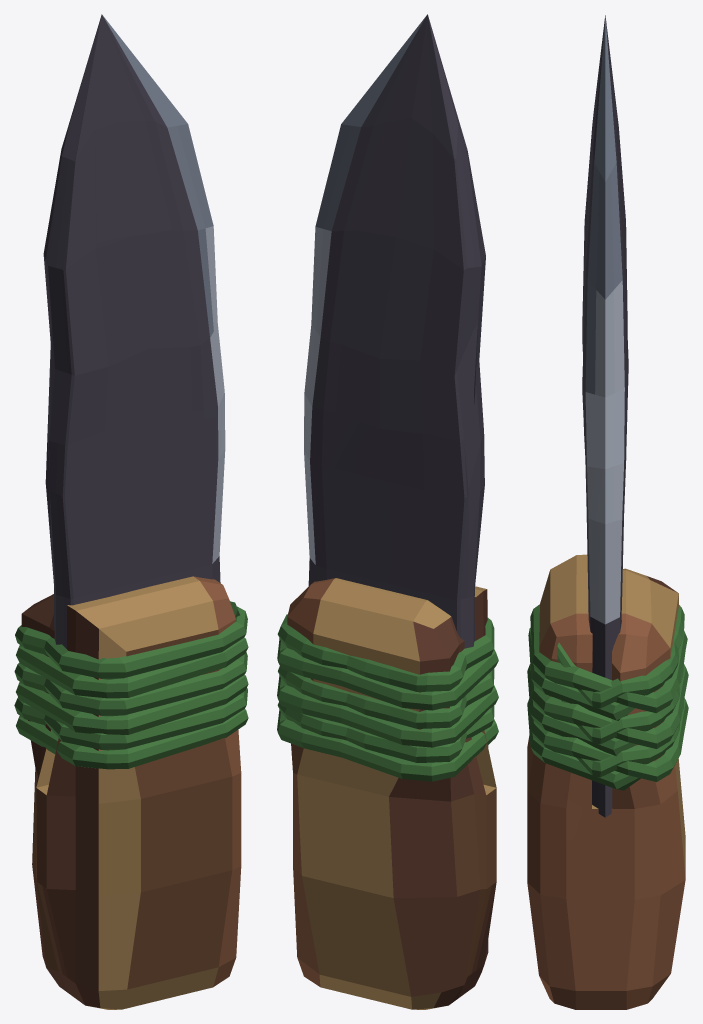
The model's file is stone_knife.glb.
3 renders of one model, left to right at view 1: azimuth 30°, elevation 25°; view 2: azimuth 150°, elevation 25°; view 3: azimuth 270°, elevation 25°, orthographic. The views are drawn at different scales.
Visible parts, largest first — view 1: StoneBlade; view 2: StoneBlade; view 3: StoneBlade.
Part boxes in pixels (bbox=[...]): StoneBlade: bbox=[14, 14, 248, 1009]; StoneBlade: bbox=[277, 14, 498, 1009]; StoneBlade: bbox=[527, 15, 688, 1009].
Bounding box in the file's own units: 0.0635 × 0.3 × 0.046.
